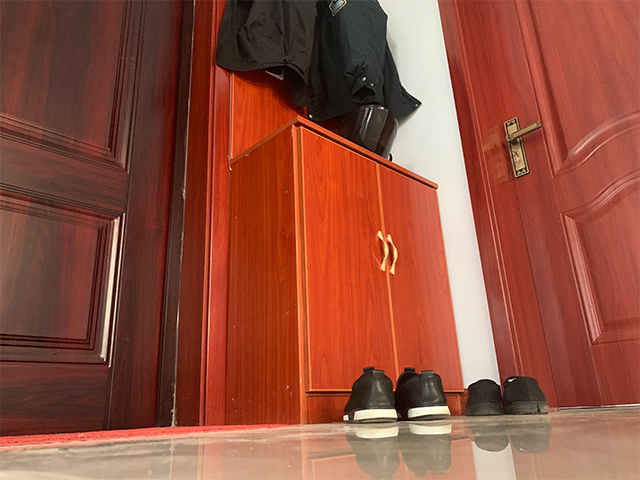cabinet: (223, 114, 467, 425)
carpet: (1, 423, 302, 450)
